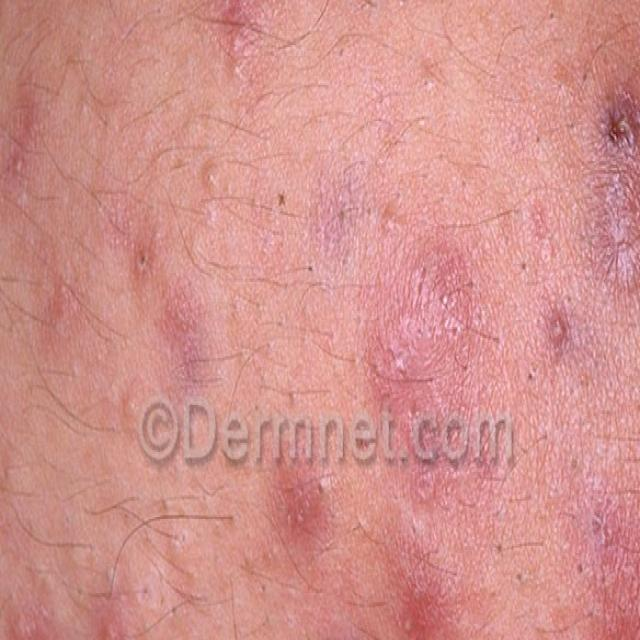Acne: (336, 207, 521, 489), (569, 437, 640, 640), (253, 427, 352, 571), (579, 90, 640, 323), (0, 578, 161, 640), (141, 304, 232, 410), (382, 519, 460, 640), (210, 8, 288, 125), (90, 206, 180, 303), (0, 106, 73, 218), (542, 291, 575, 368)
